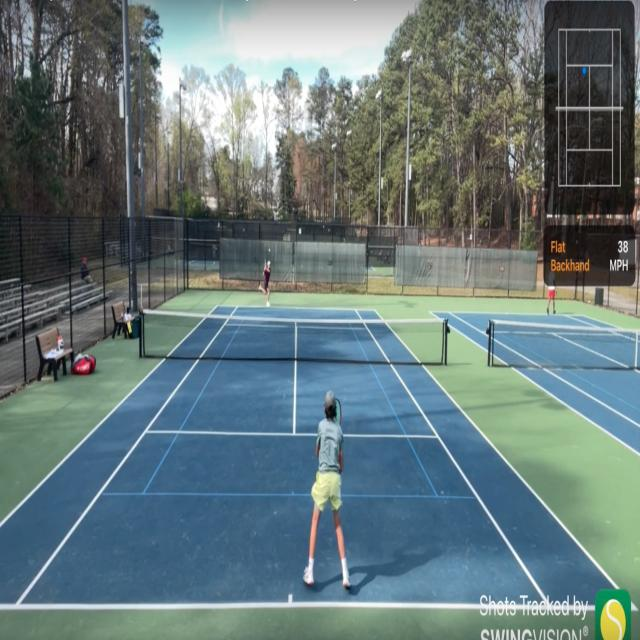ball: (268, 248, 271, 253)
